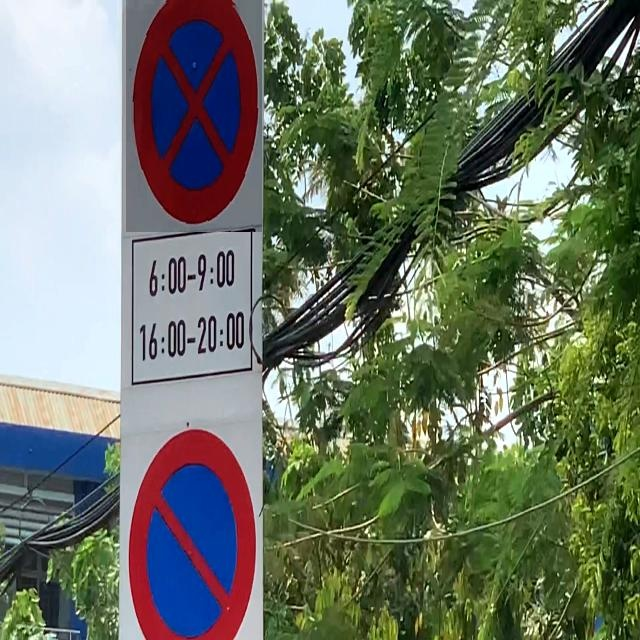bien_cam: (126, 0, 262, 232)
